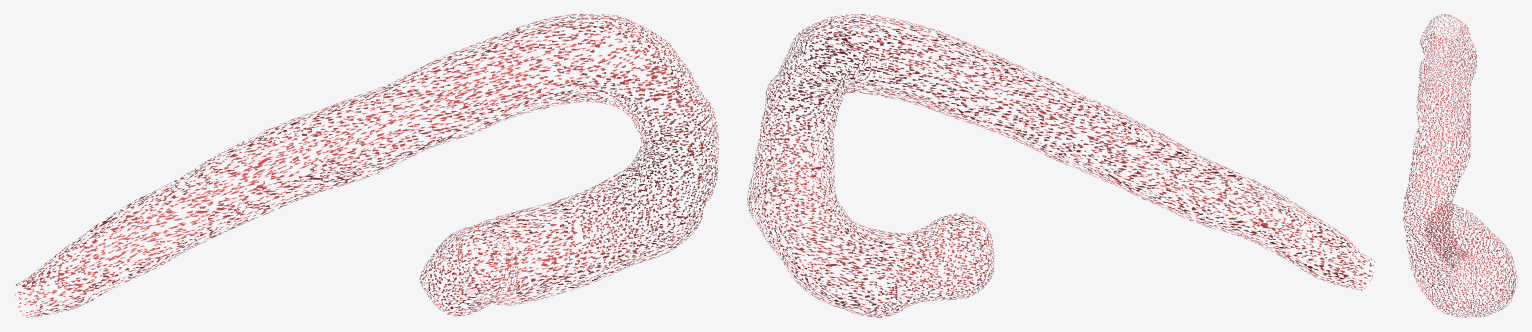
File: aorta.glb
The picture shows the model from 3 angles, left to right: view 1: azimuth 30°, elevation 25°; view 2: azimuth 150°, elevation 25°; view 3: azimuth 270°, elevation 25°; orthographic projection. The views are drawn at different scales.
Bounding box in the file's own units: 258 × 108 × 54.89.
